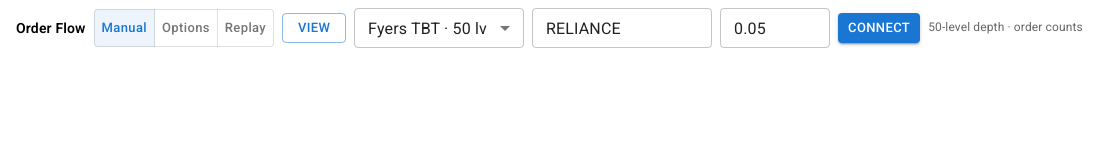
Test case: OrderFlowPage replay mode › replay mode lists stored journals and loads the chosen one without autoconnect
The width and height of the screenshot is (1099, 160).
Click the button "Replay" at (245, 28), box [217, 9, 274, 47]
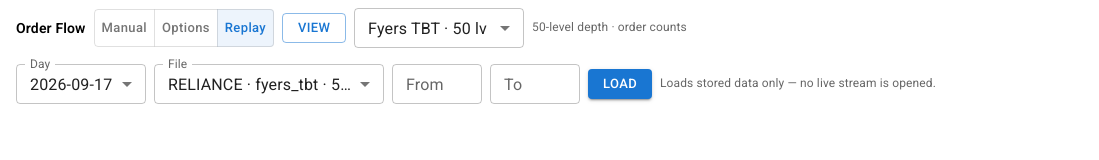
Now the element with test id "orderflow-replay-row" is shown, box [16, 56, 936, 104]
